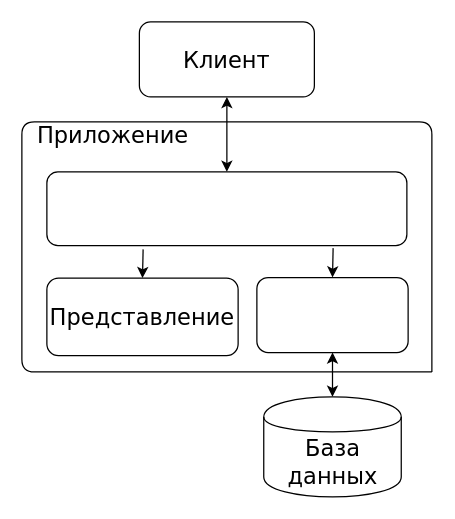
The diagram is 455 pixels wide and 519 high, and some of its shapes have lost their labels. The shapes that lost their labels are listed below. From the top down, each one's centre as x and y in pixels, then its label:
At pixel 226 208: "Контроллер".
At pixel 332 314: "Модель".
